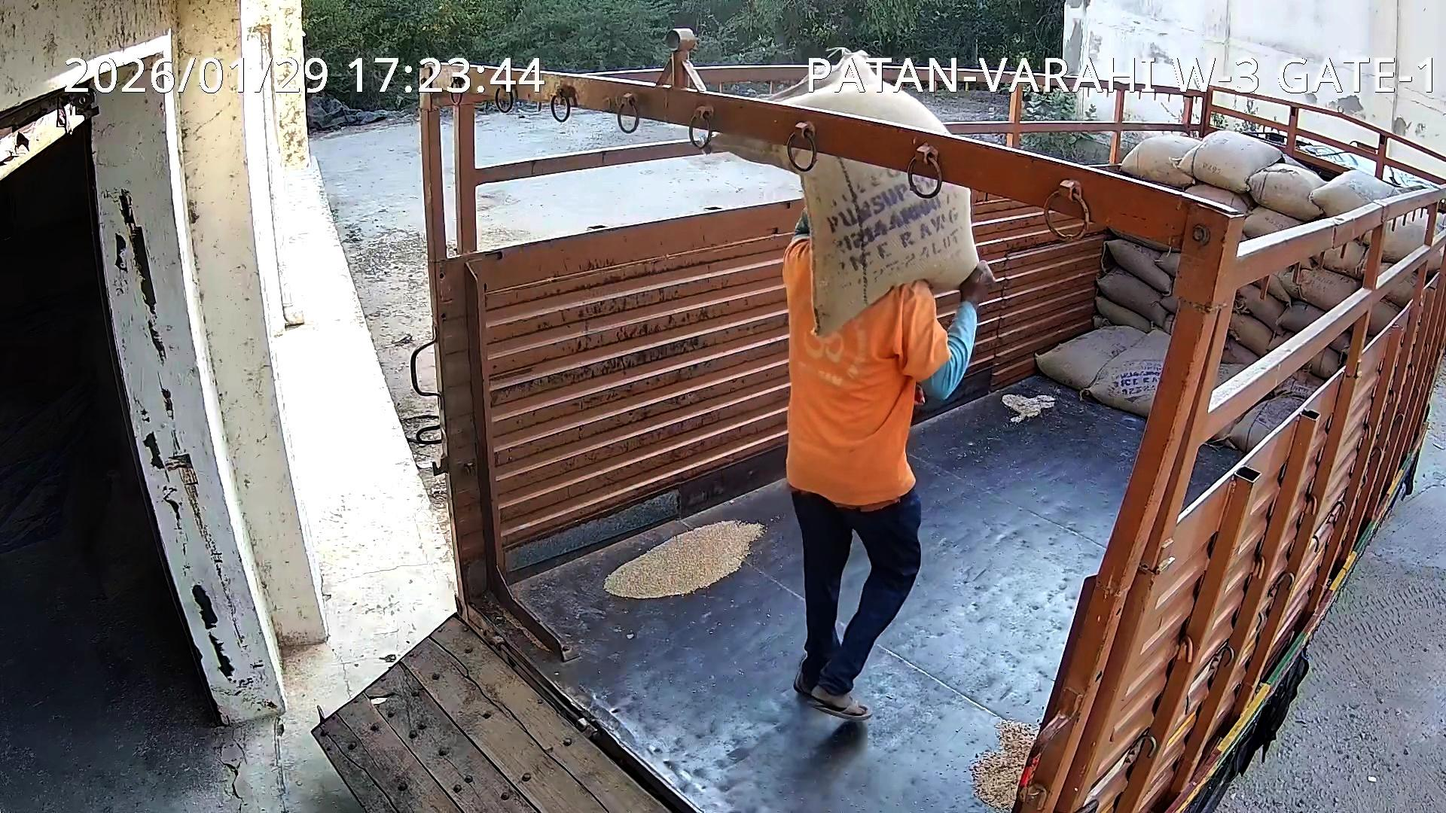Sack: (802, 154, 979, 336), (774, 54, 947, 140)
